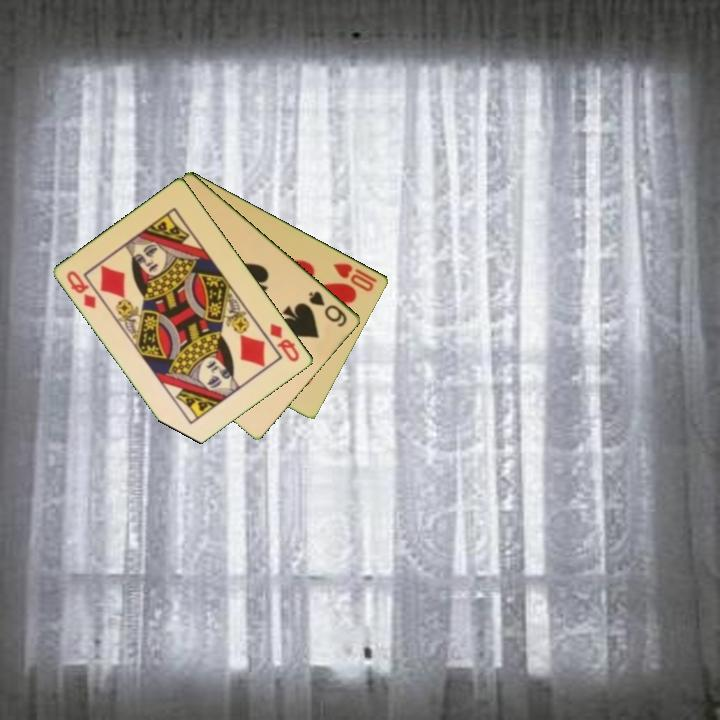10h: (330, 259, 381, 294)
6s: (306, 287, 350, 330)
Qd: (63, 267, 100, 311), (267, 320, 303, 365)
